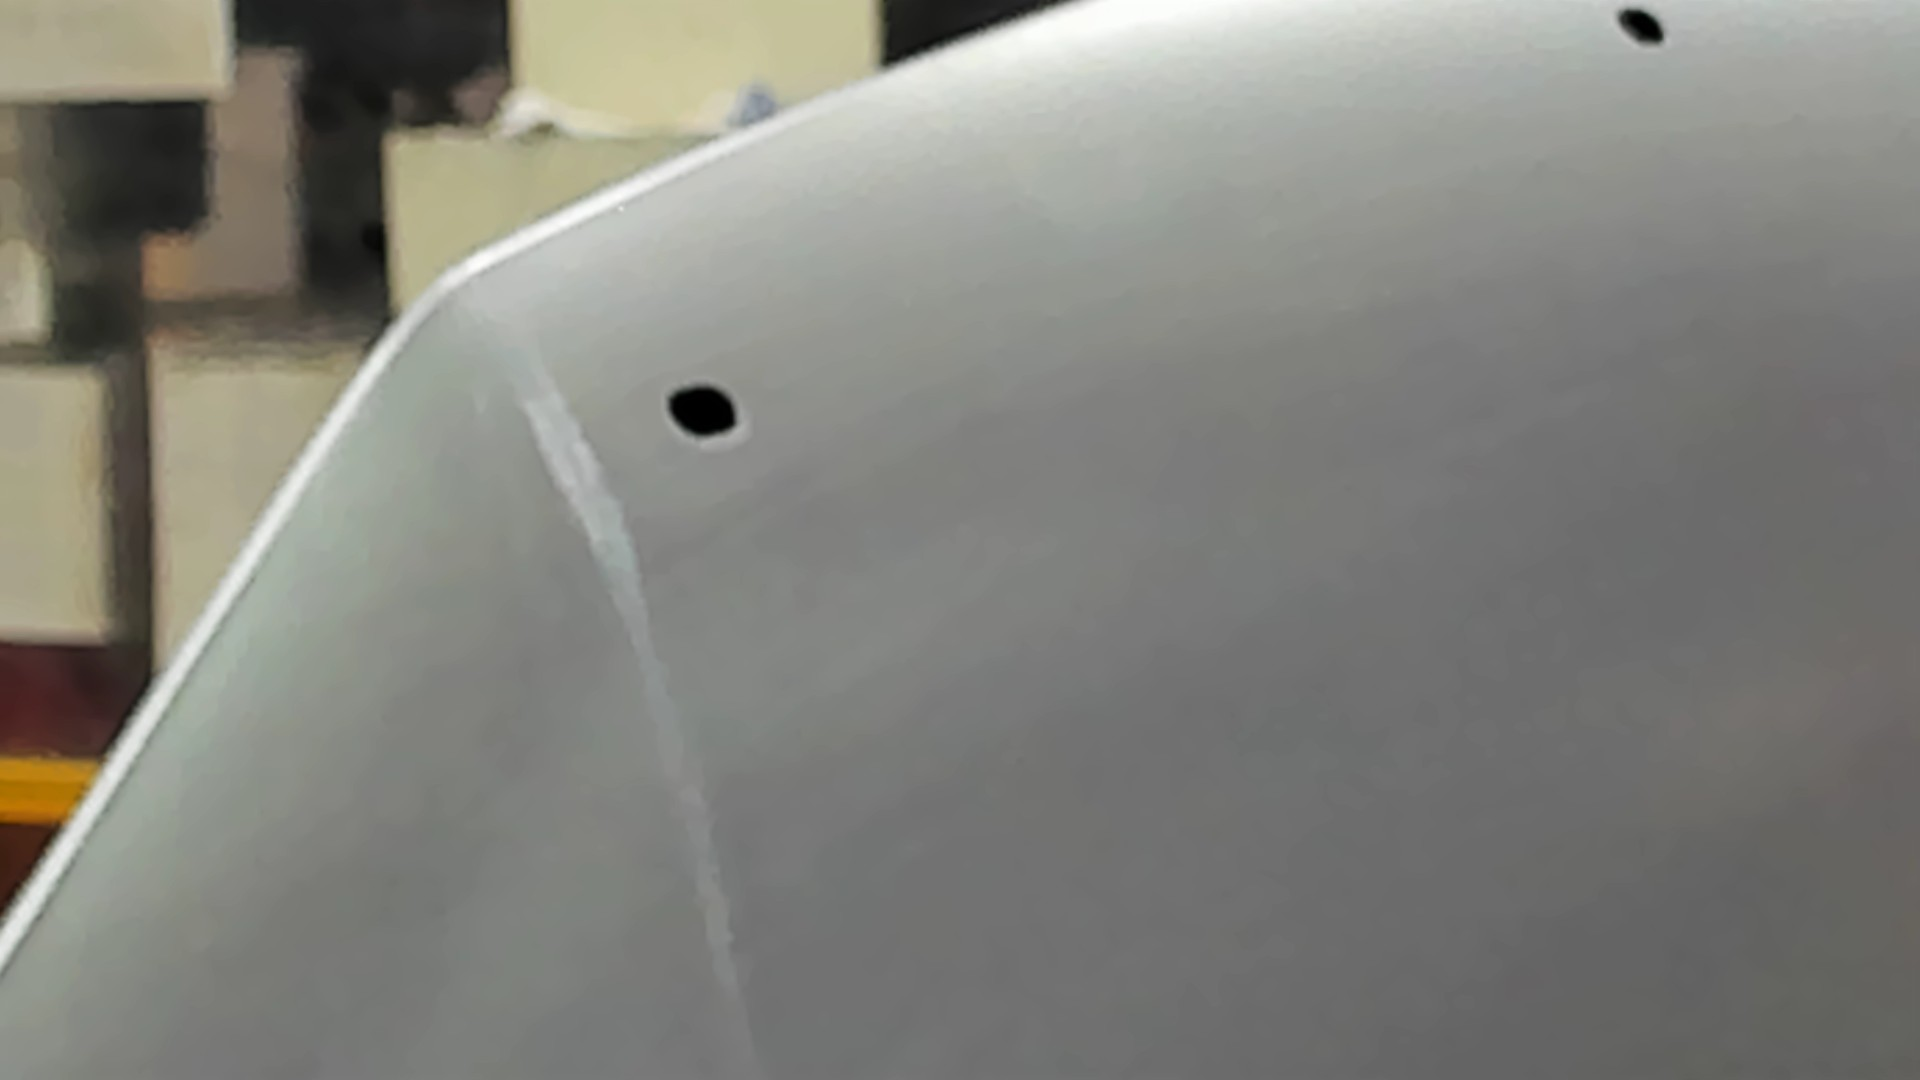amorfo: (659, 373, 752, 454), (1611, 4, 1671, 54)
capo: (872, 166, 1920, 1080)
